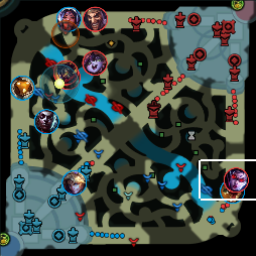bard: (10, 75, 33, 99)
draven: (82, 6, 106, 31)
ekko: (34, 109, 58, 133)
ezreal: (62, 171, 86, 195)
irelia: (56, 6, 80, 31)
lulu: (82, 50, 106, 75)
renekton: (220, 181, 243, 203)
vayne: (224, 166, 248, 192)
viktor: (53, 59, 79, 83)
